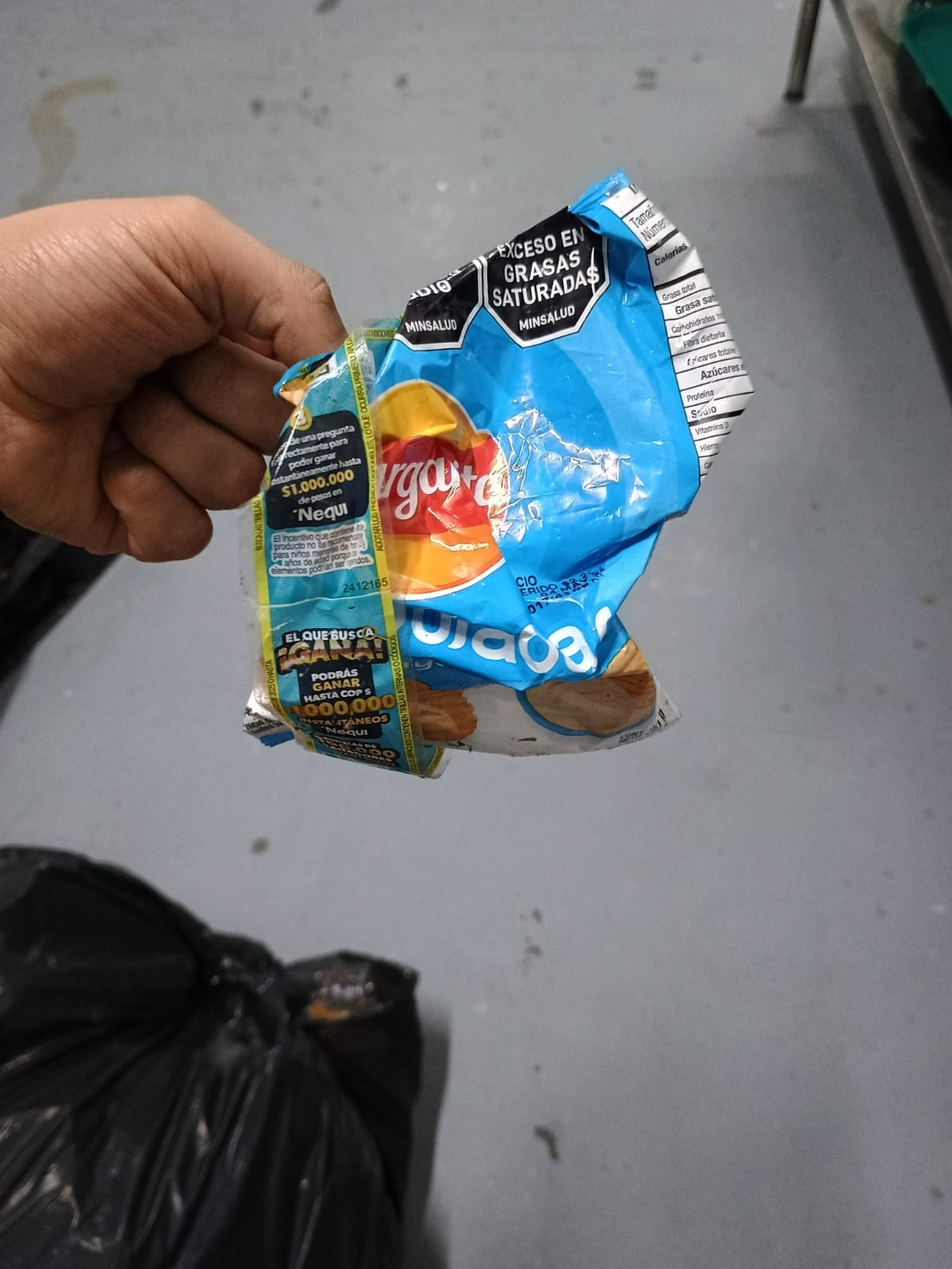Ordinario: (243, 168, 754, 779)
